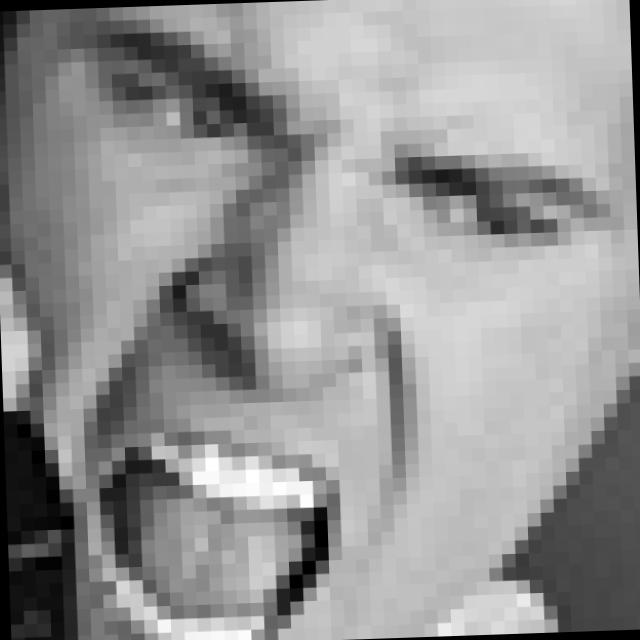angry: (63, 3, 628, 640)
